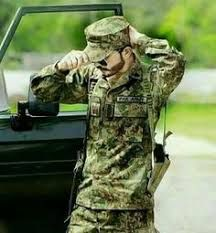uniform: (66, 14, 155, 224)
